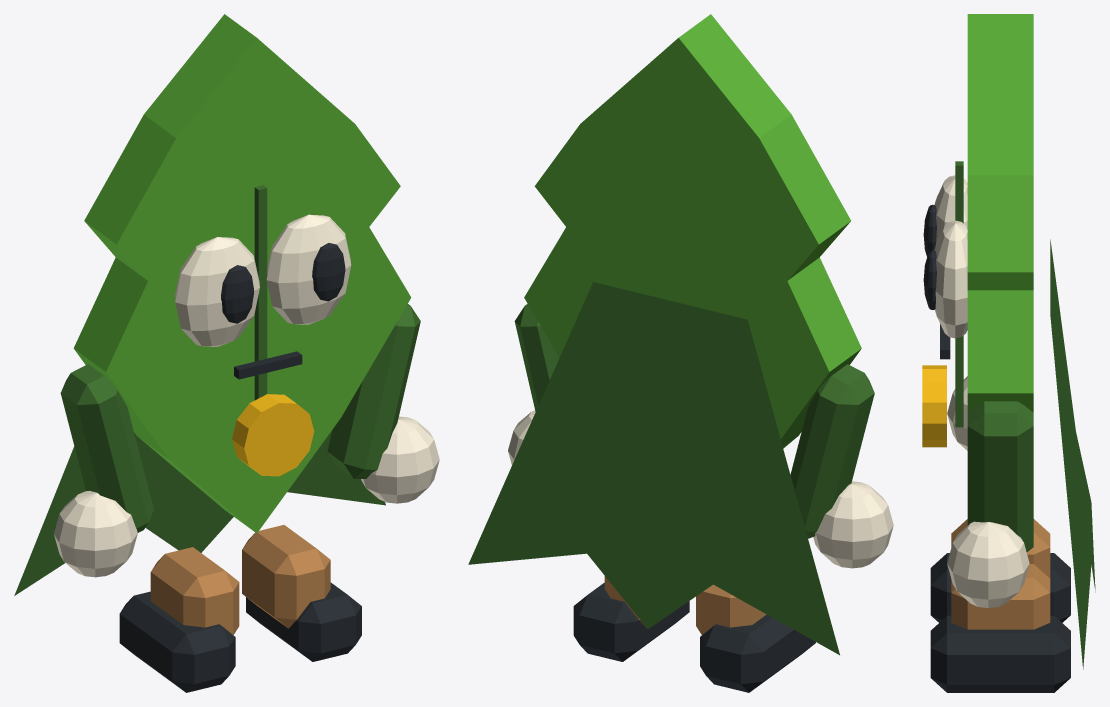
The model's file is leaf.glb.
3 renders of one model, left to right at view 1: azimuth 30°, elevation 25°; view 2: azimuth 150°, elevation 25°; view 3: azimuth 270°, elevation 25°, orthographic.
Parts seen in each view (by area): view 1: leaf; view 2: leaf; view 3: leaf.
Boxes of the visible parts, x1,y1,x2,y2 form: leaf: (14, 14, 439, 692); leaf: (468, 14, 893, 692); leaf: (922, 14, 1095, 692).
Bounding box in the file's own units: 1.07 × 1.71 × 0.42.
